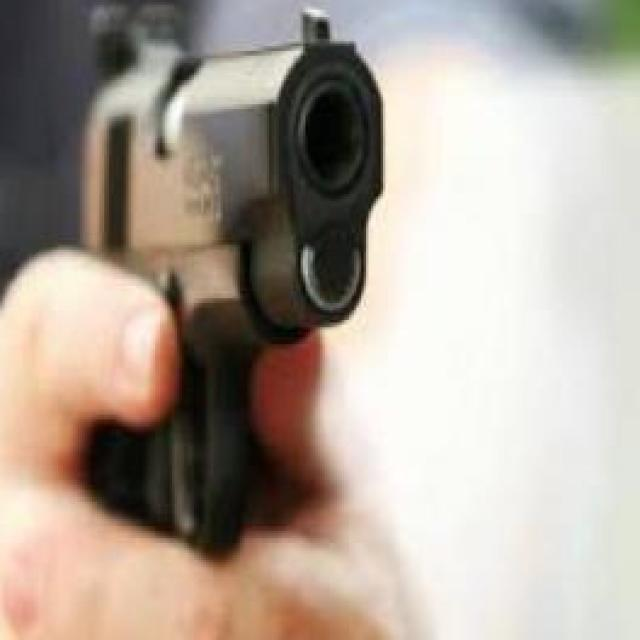pistol: (75, 0, 388, 575)
